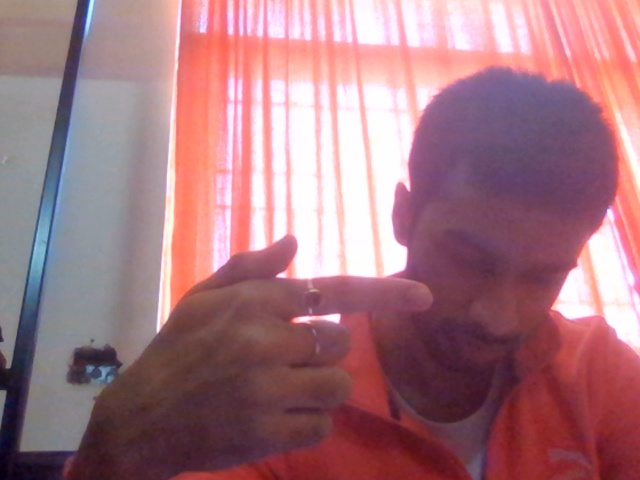G: (68, 236, 442, 480)
